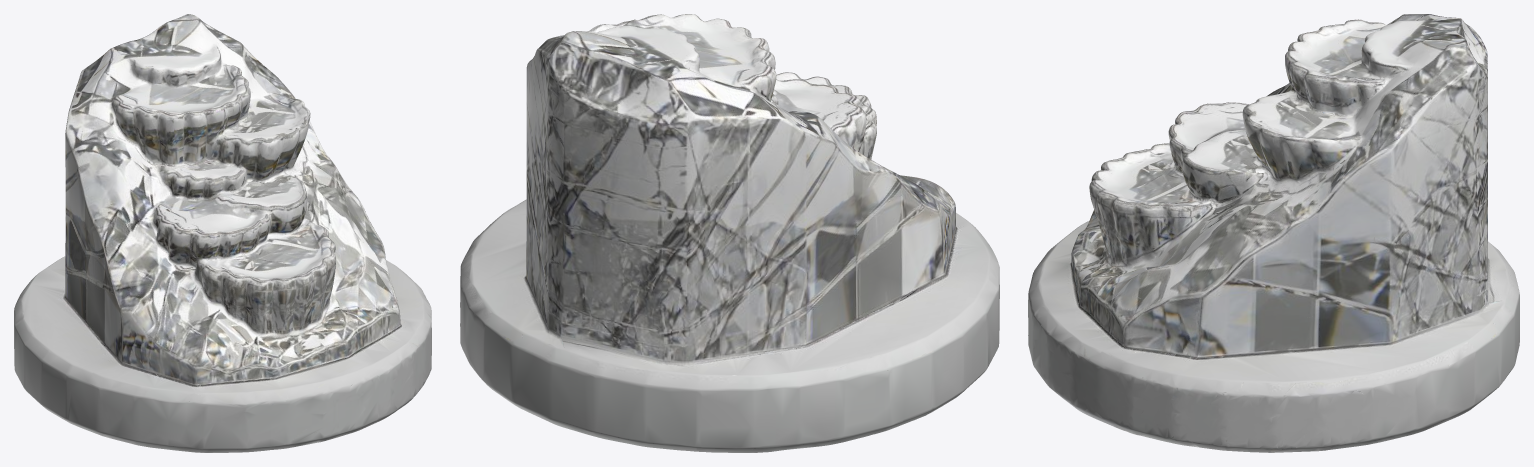
File: pamukkale_meshy.glb
The picture shows the model from 3 angles, left to right: view 1: azimuth 30°, elevation 25°; view 2: azimuth 150°, elevation 25°; view 3: azimuth 270°, elevation 25°; orthographic projection. The views are drawn at different scales.
Visible parts, largest first — view 1: Mesh_0; view 2: Mesh_0; view 3: Mesh_0.
Boxes of the visible parts, left/top/right/bottom form: Mesh_0: left=14, top=14, right=431, bottom=452; Mesh_0: left=460, top=14, right=999, bottom=452; Mesh_0: left=1028, top=14, right=1519, bottom=452.
Size of the model in its own units: 1.91 by 1.43 by 1.91.
Materials: 1 (1 with a texture image).
